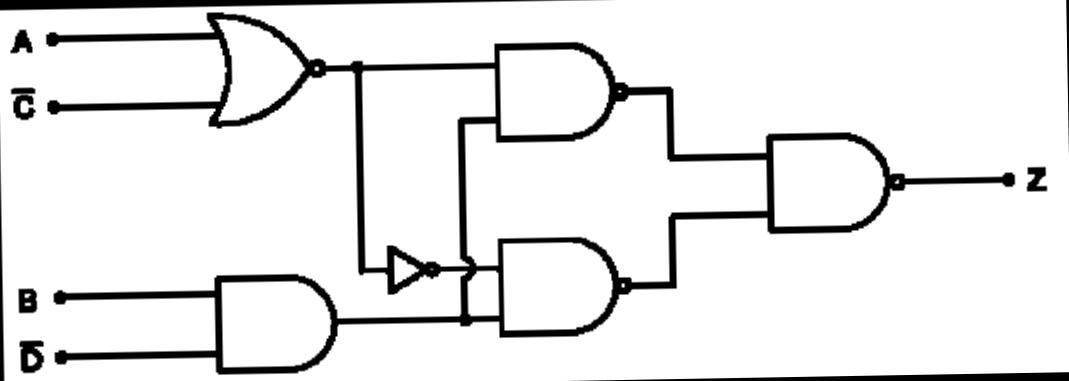and: (192, 251, 351, 381)
nand: (742, 113, 916, 255), (478, 220, 651, 356), (474, 25, 638, 155)
nor: (199, 5, 340, 134)
not: (371, 232, 452, 304)
